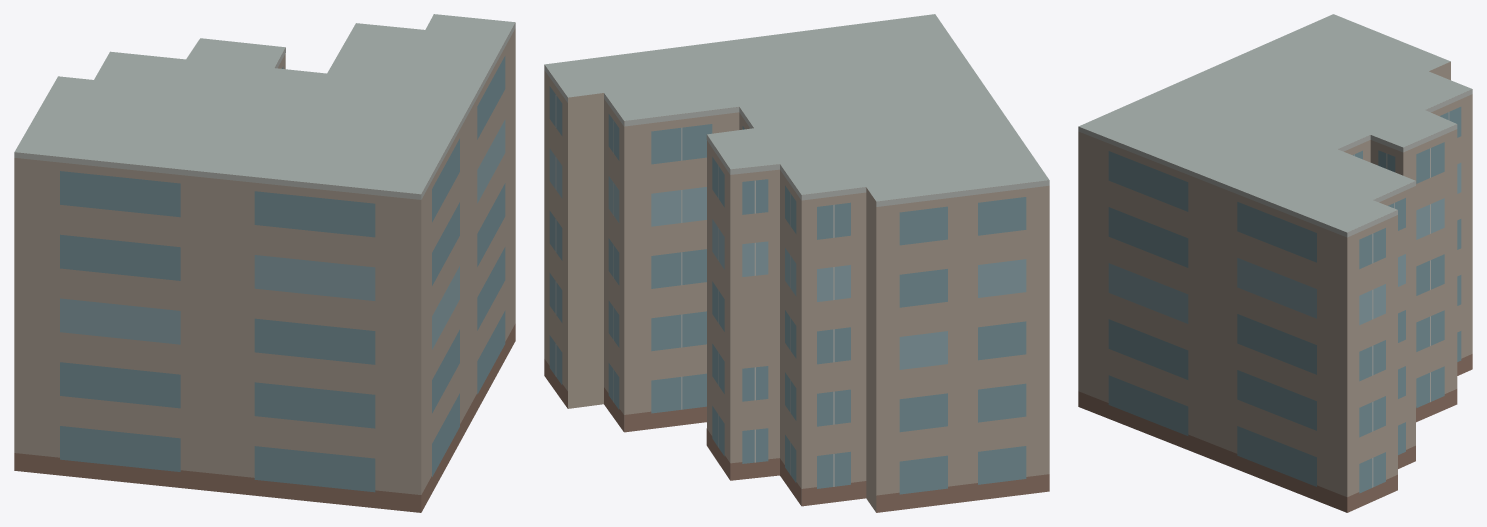
File: survey-upis-33006492.glb
3 views of the same model, side by side, from view 1: azimuth 30°, elevation 25°; view 2: azimuth 150°, elevation 25°; view 3: azimuth 270°, elevation 25° (orthographic). The views are drawn at different scales.
Visible parts, largest first — view 1: survey-upis-33006492.tmp; view 2: survey-upis-33006492.tmp; view 3: survey-upis-33006492.tmp.
Part boxes in pixels (<box>): survey-upis-33006492.tmp: <box>14,14,515,512</box>; survey-upis-33006492.tmp: <box>544,14,1049,512</box>; survey-upis-33006492.tmp: <box>1078,14,1472,512</box>.
Bounding box in the file's own units: 22.92 × 13.7 × 17.47.
